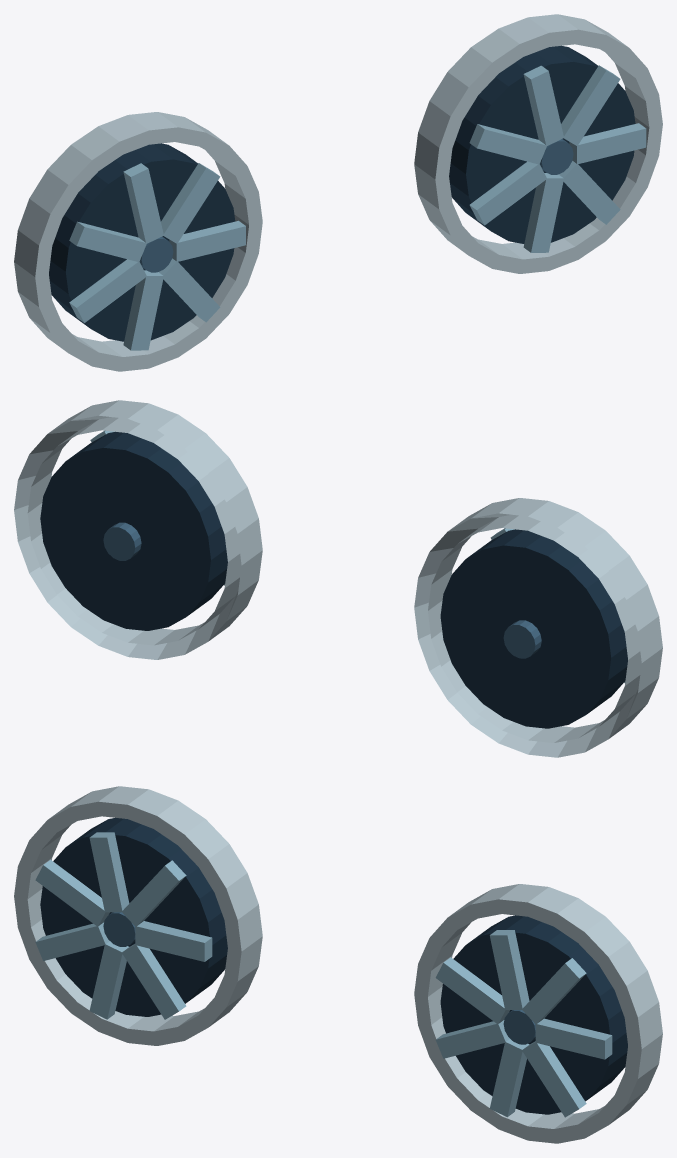
The model's file is 14_L69_EvaporatorFanAssemblyB.fbx.
The picture shows the model from 3 angles, top to bottom: view 1: azimuth 30°, elevation 25°; view 2: azimuth 150°, elevation 25°; view 3: azimuth 330°, elevation 25°; orthographic projection.
Parts seen in each view (by area): view 1: EvaporatorFanAssemblyB; view 2: EvaporatorFanAssemblyB; view 3: EvaporatorFanAssemblyB.
Part boxes in pixels (bbox=[...]): EvaporatorFanAssemblyB: bbox=[14, 14, 662, 371]; EvaporatorFanAssemblyB: bbox=[14, 400, 662, 757]; EvaporatorFanAssemblyB: bbox=[14, 786, 662, 1143].
Size of the model in its own units: 171 by 62 by 18.75.
